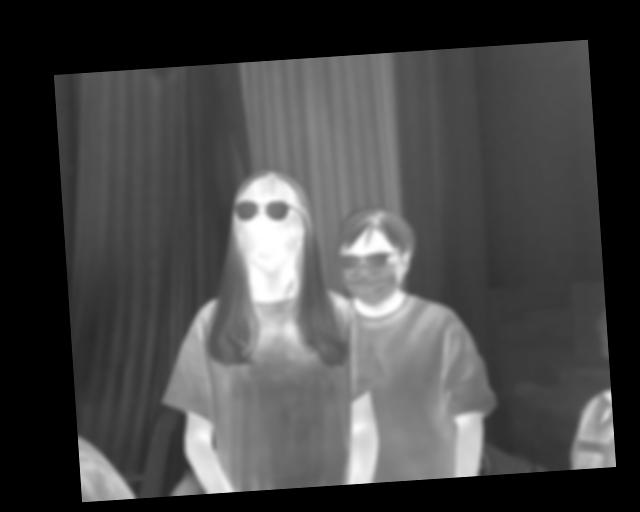face: (228, 169, 311, 276), (335, 203, 418, 309)
